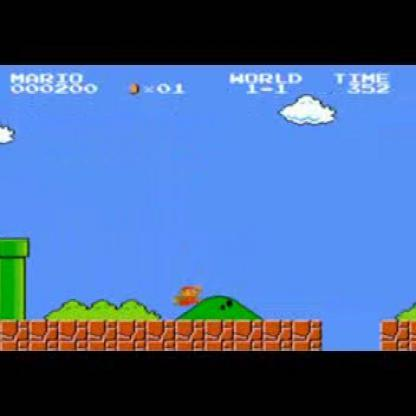Hoyo: (317, 316, 385, 351)
